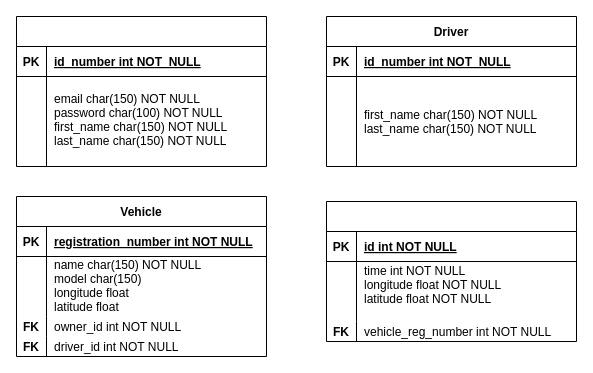
This 593x373 diagram has some shape labels left out. The box of each missing label's shape, as (x1, y1, x2, y2) in pixels:
Owner: (16, 16, 266, 166)
Timestampe: (326, 200, 576, 342)
